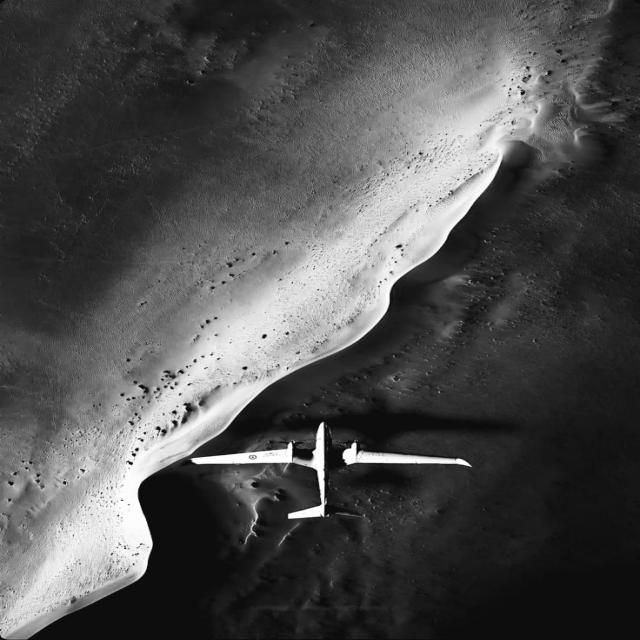iha: (190, 422, 470, 517)
